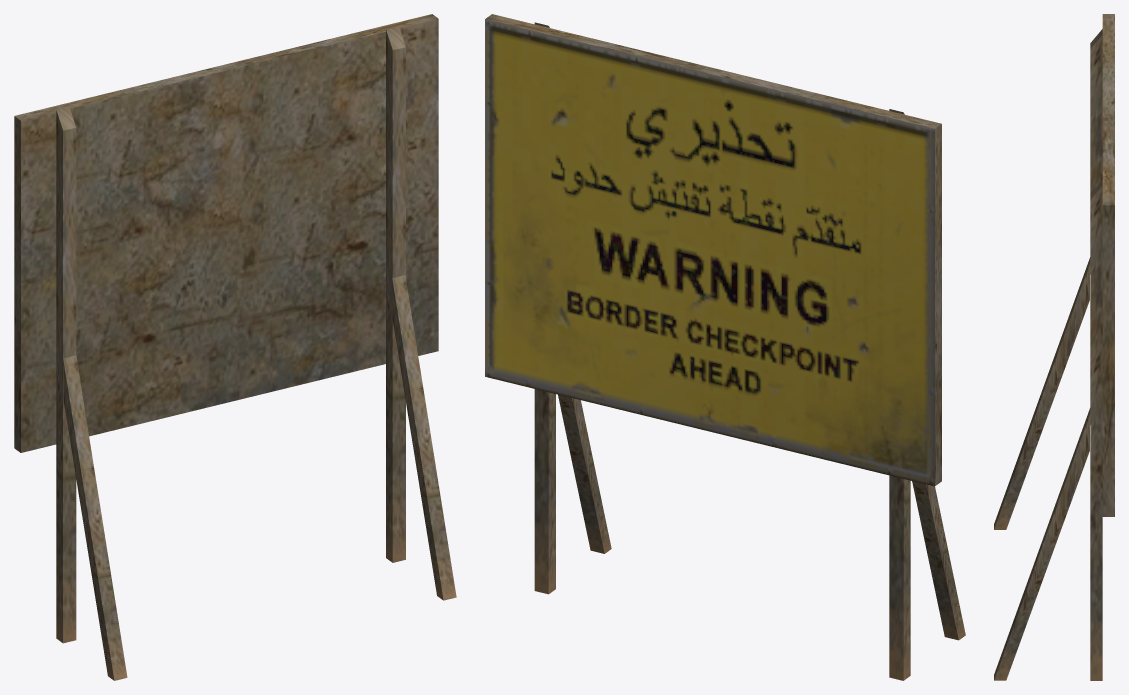
The model's file is Checkpoint_Barrier_Sign.glb.
3 views of the same model, side by side, from view 1: azimuth 30°, elevation 25°; view 2: azimuth 150°, elevation 25°; view 3: azimuth 270°, elevation 25° (orthographic). The views are drawn at different scales.
Parts seen in each view (by area): view 1: CHECKPOINT_BARRIER_SIGN; view 2: CHECKPOINT_BARRIER_SIGN; view 3: CHECKPOINT_BARRIER_SIGN.
Part boxes in pixels (x1=…): CHECKPOINT_BARRIER_SIGN: x1=14, y1=14, x2=456, y2=680; CHECKPOINT_BARRIER_SIGN: x1=485, y1=14, x2=965, y2=680; CHECKPOINT_BARRIER_SIGN: x1=994, y1=14, x2=1114, y2=680.
Bounding box in the file's own units: 1.6 × 1.93 × 0.426.
Materials: 1 (1 with a texture image).
